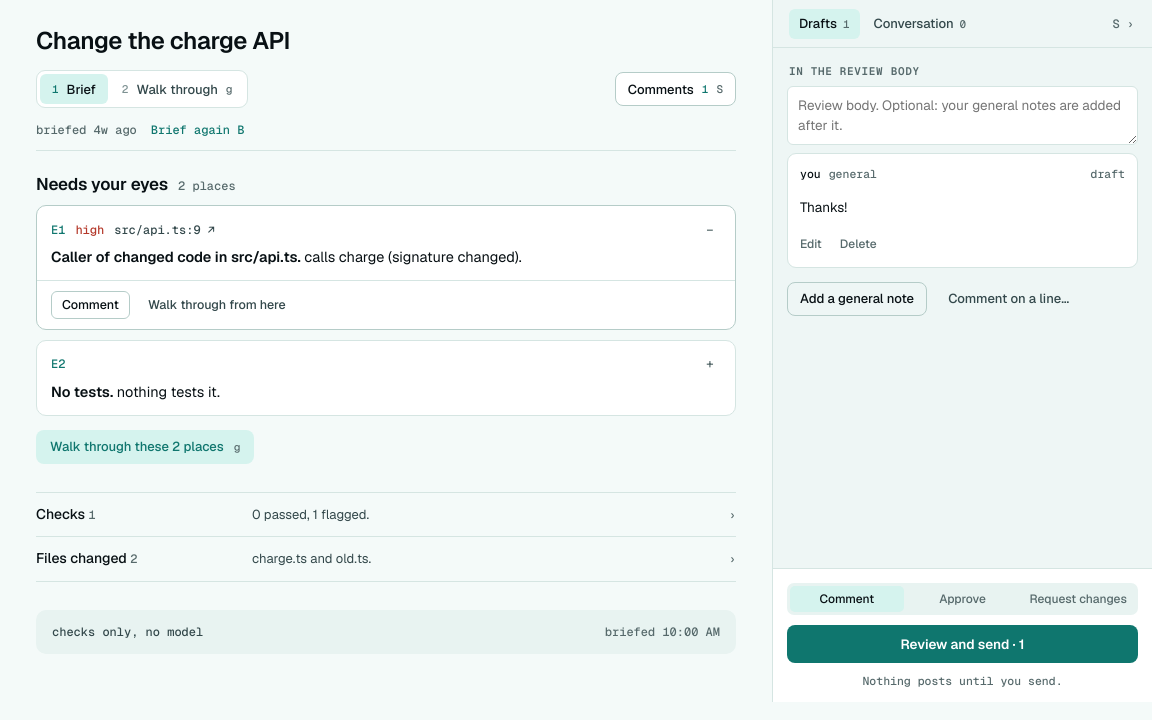
Test: the drawer's shape › has Drafts and Conversation tabs, with their counts
Step 1. Click the tab "Conversation 0" → {"x": 920, "y": 24}, box [864,8,976,38]
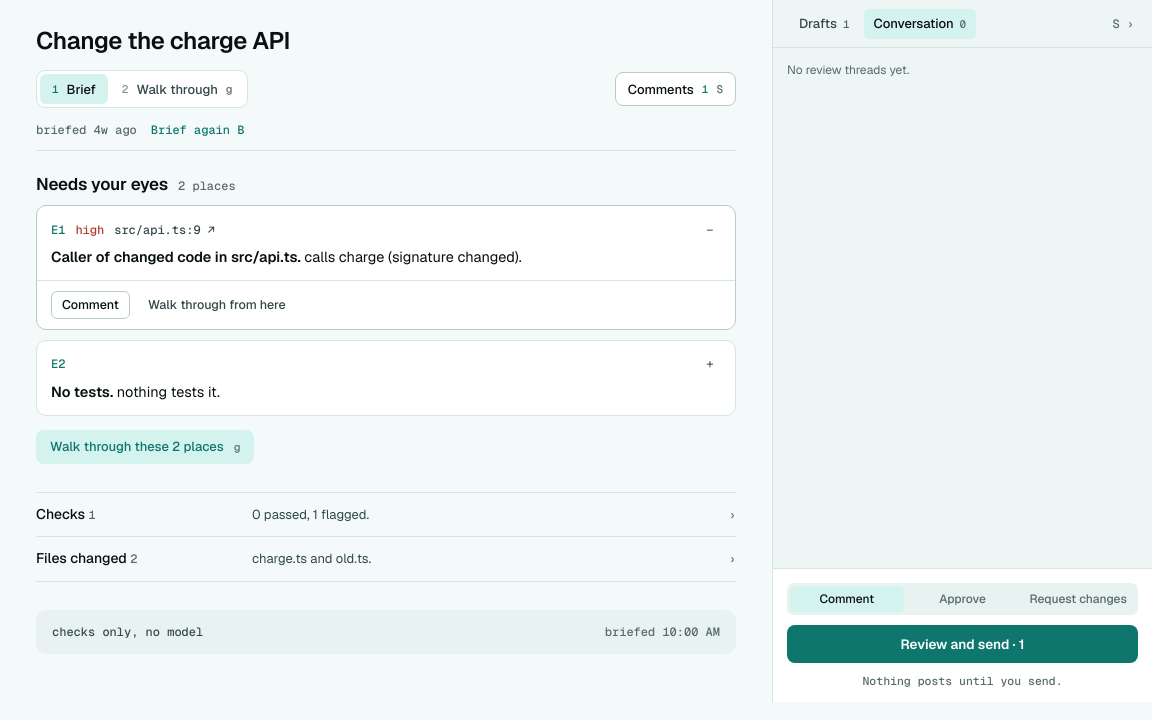
Now the text "No review threads yet." is shown, box [787,62,909,78]
Now the text "Thanks!" is gone
# ArrowLeft goes back to Drafts.
Step 2. Press ArrowLeft in the tab "Conversation 0", box [864,8,976,38]
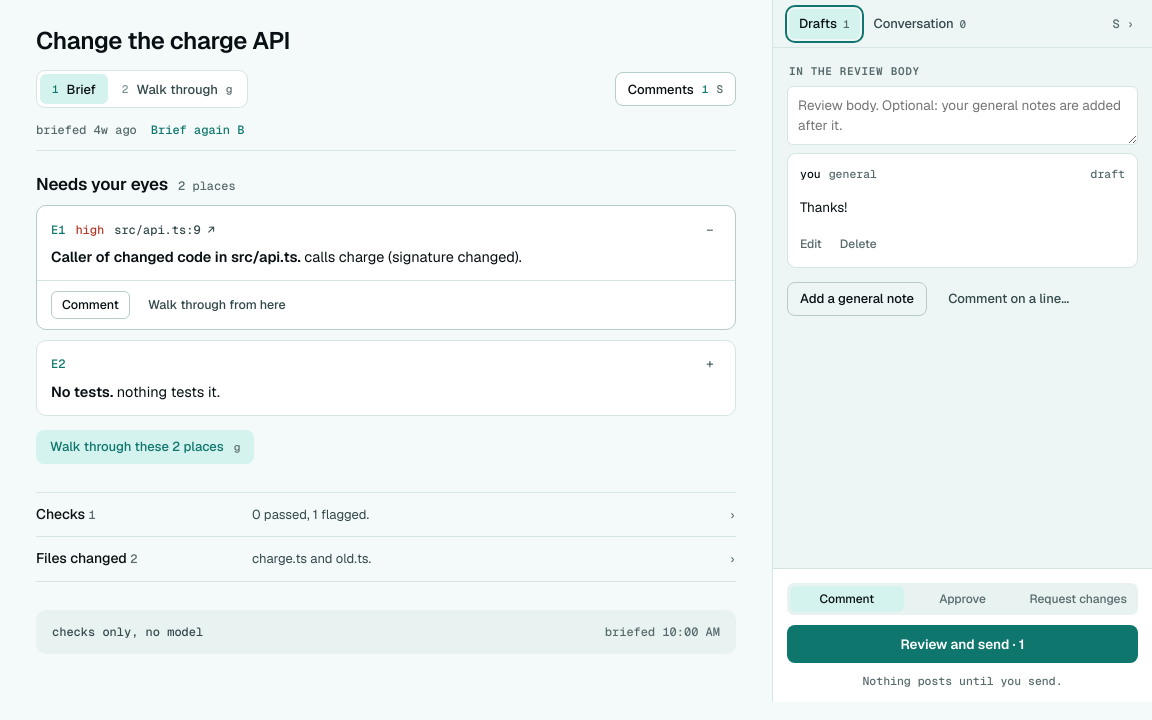
Now the text "Thanks!" is shown, box [800,198,847,216]
